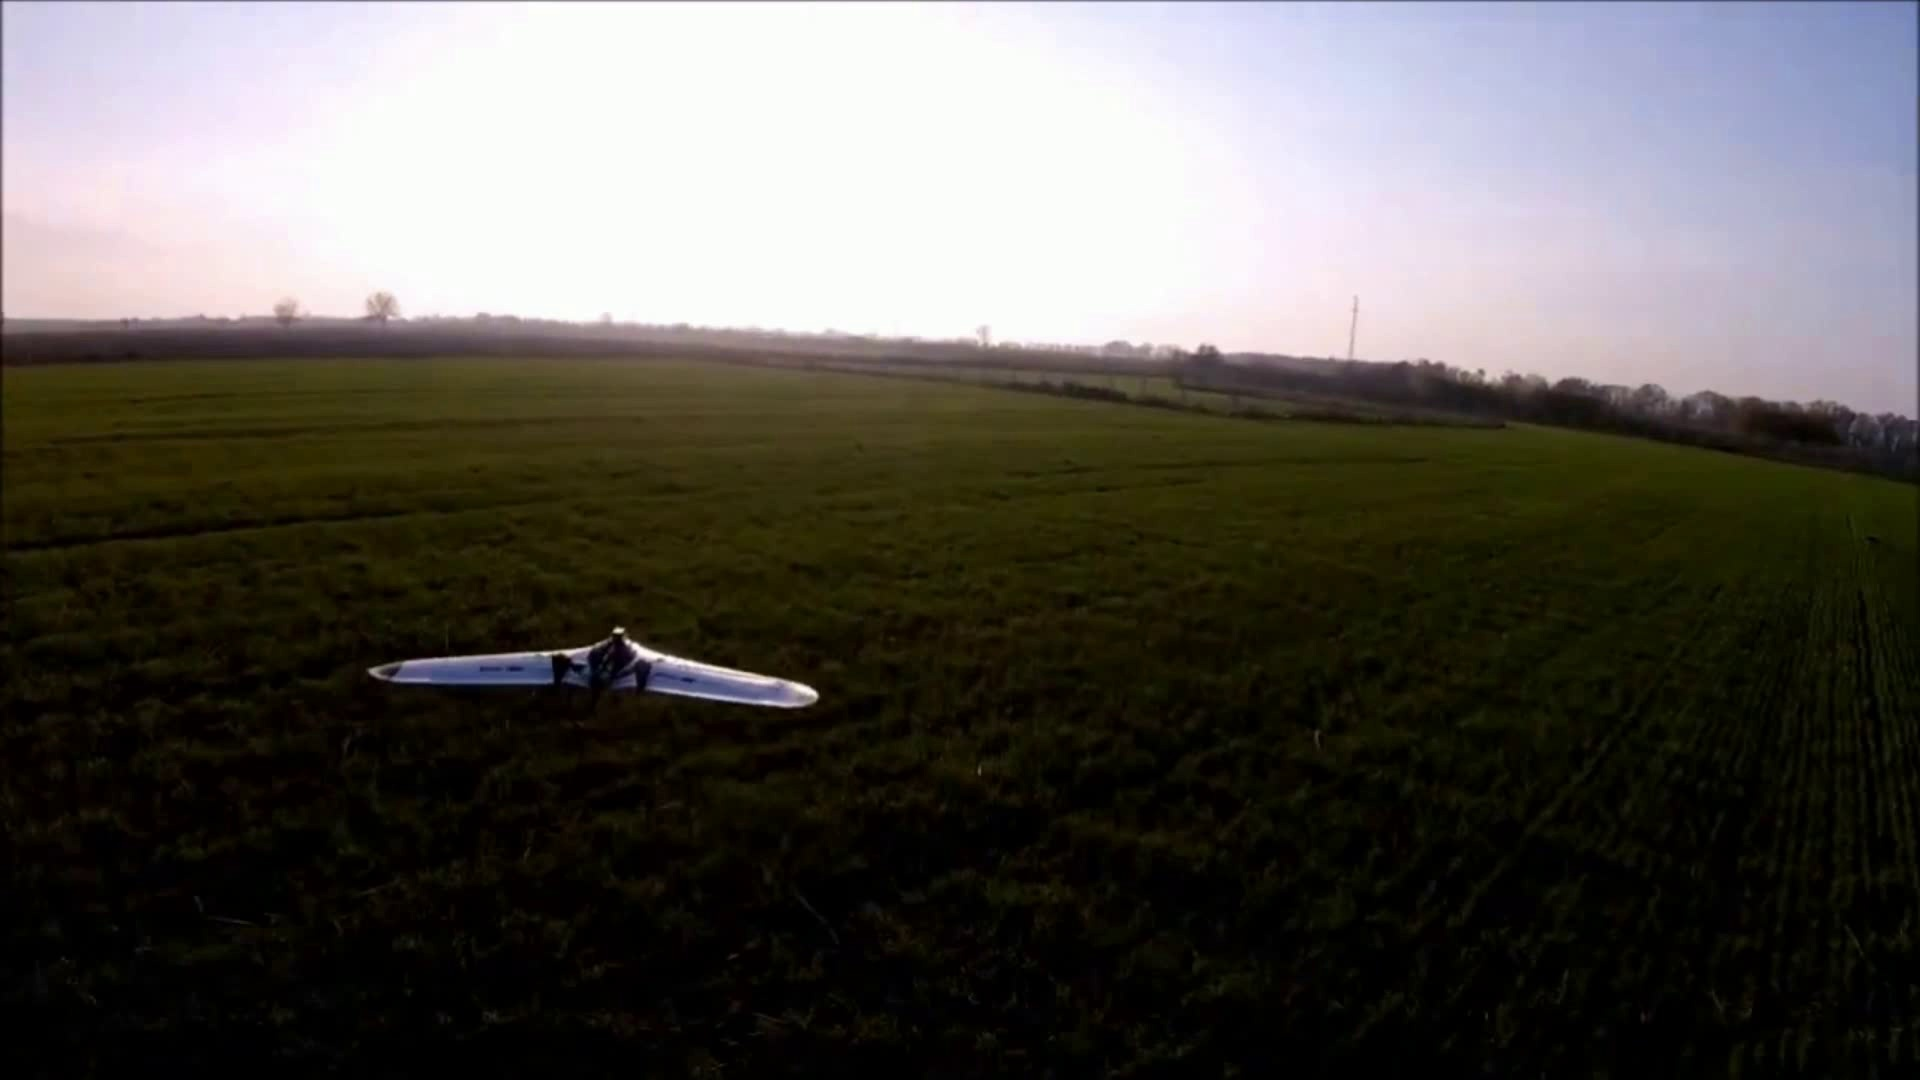airplane: (364, 625, 822, 713)
